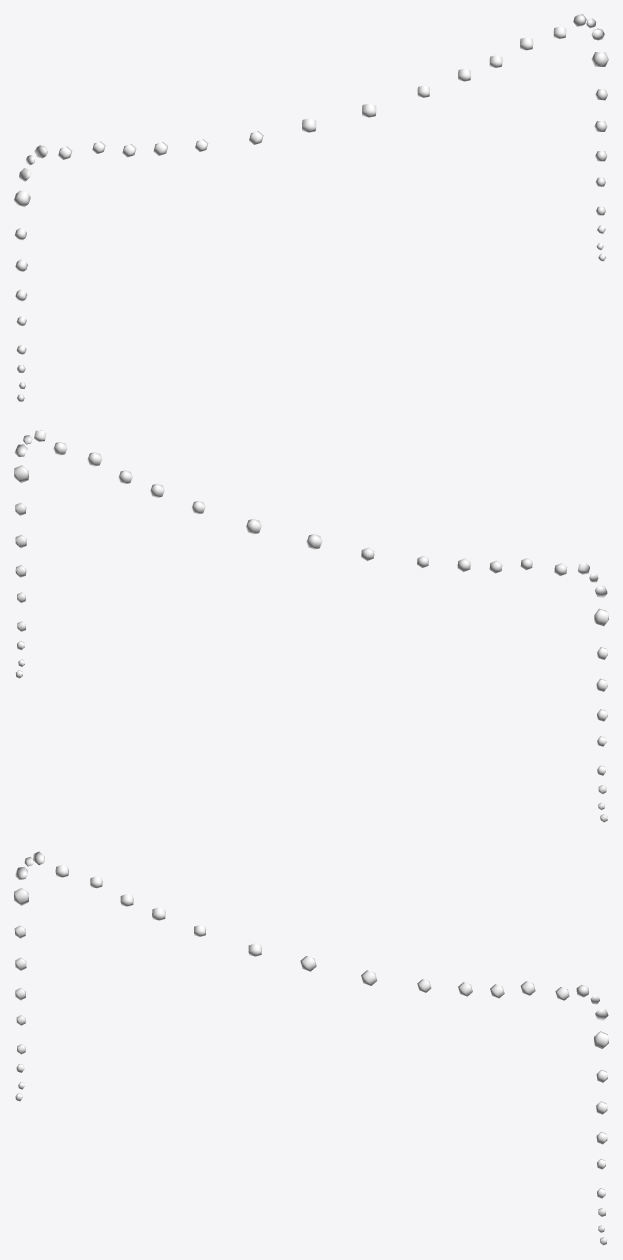
File: Prop_HangingLights_02.glb
The picture shows the model from 3 angles, top to bottom: view 1: azimuth 30°, elevation 25°; view 2: azimuth 150°, elevation 25°; view 3: azimuth 330°, elevation 25°; orthographic projection.
Parts seen in each view (by area): view 1: Prop_HangingLights_02; view 2: Prop_HangingLights_02; view 3: Prop_HangingLights_02.
Part boxes in pixels (x1,y1,x2,y2): Prop_HangingLights_02: [14, 14, 608, 401]; Prop_HangingLights_02: [14, 430, 608, 822]; Prop_HangingLights_02: [14, 851, 608, 1245].
Bounding box in the file's own units: 24.06 × 9.81 × 0.7052.
Materials: 1 (1 with a texture image).
